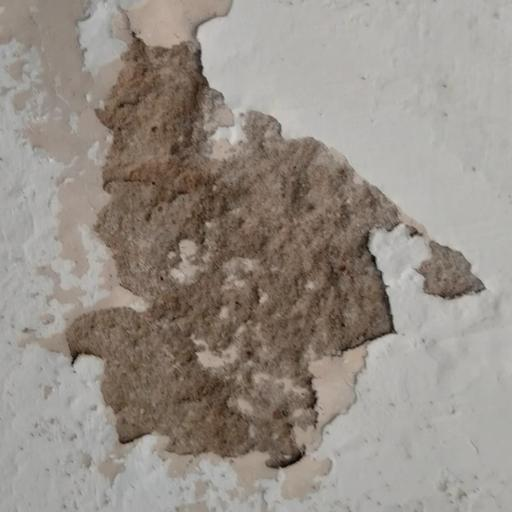spalling: (42, 9, 499, 488)
